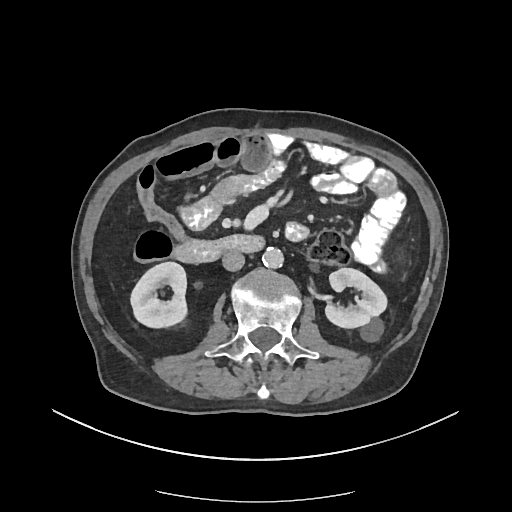Lesion: (353, 315, 391, 346)
